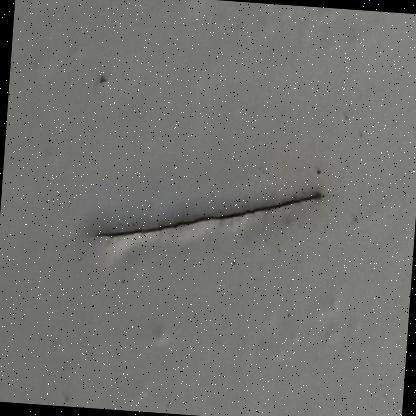Crack: (48, 144, 364, 265)
